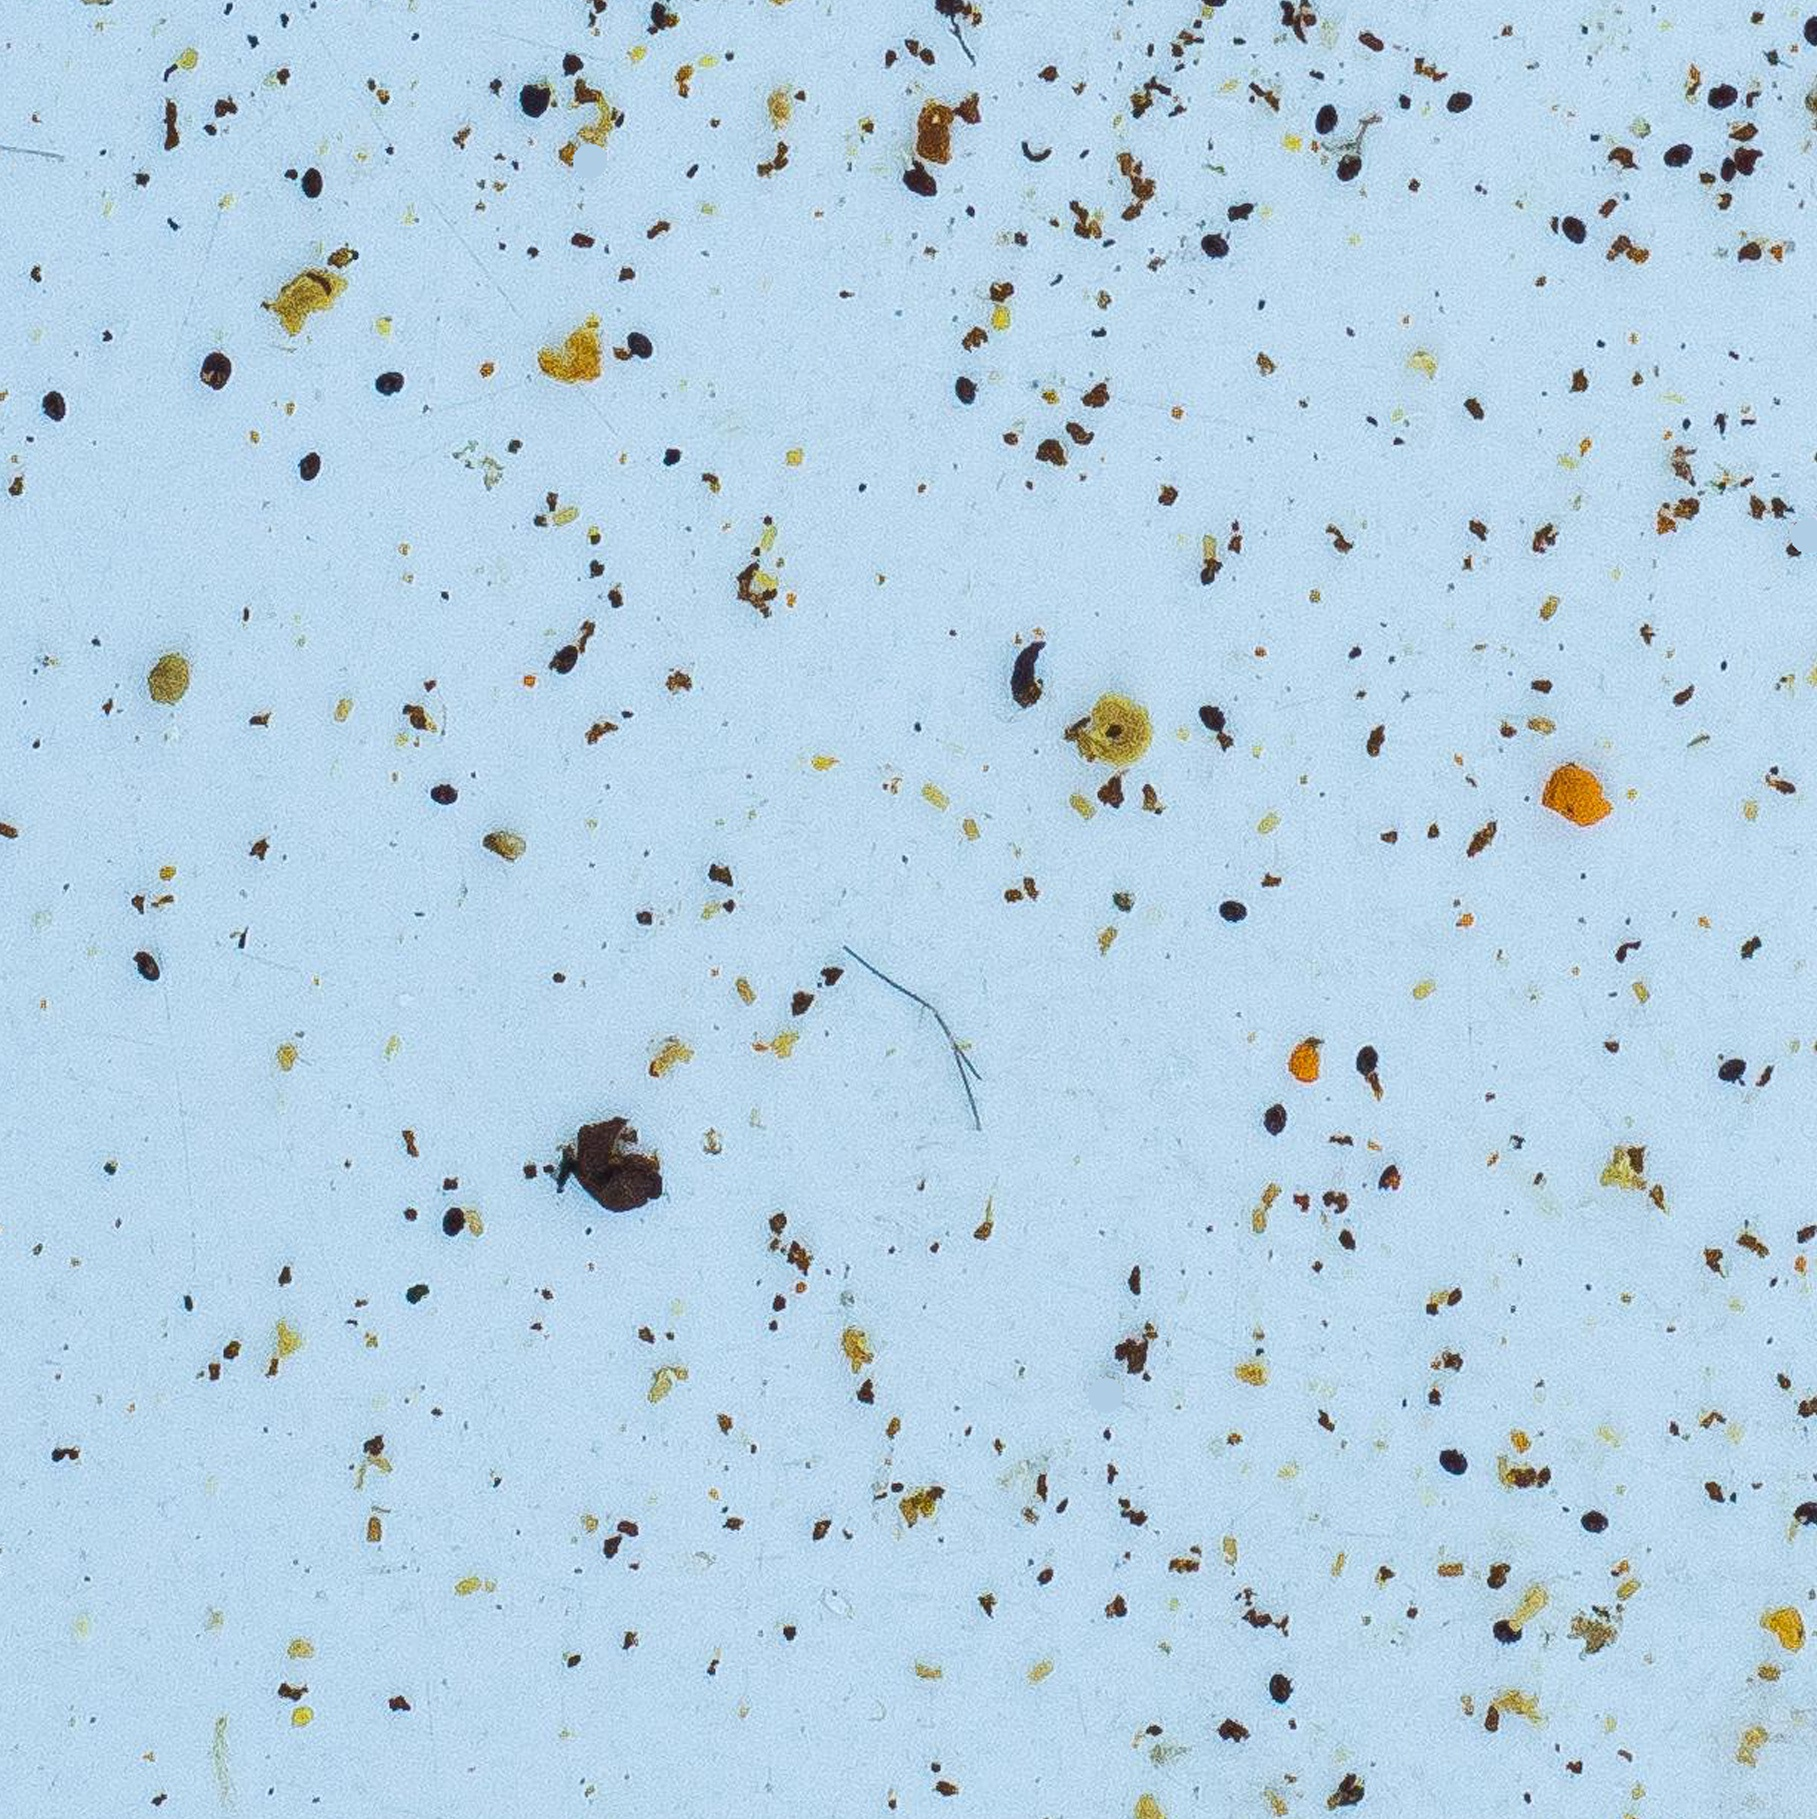Varroa: (1255, 1100, 1290, 1137), (295, 449, 328, 484), (374, 364, 408, 399), (626, 323, 657, 356), (40, 388, 72, 421), (1354, 1043, 1386, 1077), (1711, 77, 1742, 108), (1195, 701, 1226, 732), (1489, 1621, 1521, 1653), (1714, 1060, 1745, 1092), (1443, 87, 1473, 118), (131, 950, 163, 980), (1216, 894, 1246, 925), (1581, 1508, 1611, 1539), (950, 373, 980, 403), (296, 165, 326, 195), (547, 642, 577, 672), (1200, 230, 1230, 260), (433, 1203, 463, 1232), (1265, 1674, 1293, 1704), (1331, 148, 1359, 178), (1561, 216, 1589, 245), (1664, 141, 1692, 170), (1311, 108, 1339, 136), (1439, 1443, 1464, 1470), (431, 777, 456, 804), (451, 1197, 474, 1222)
